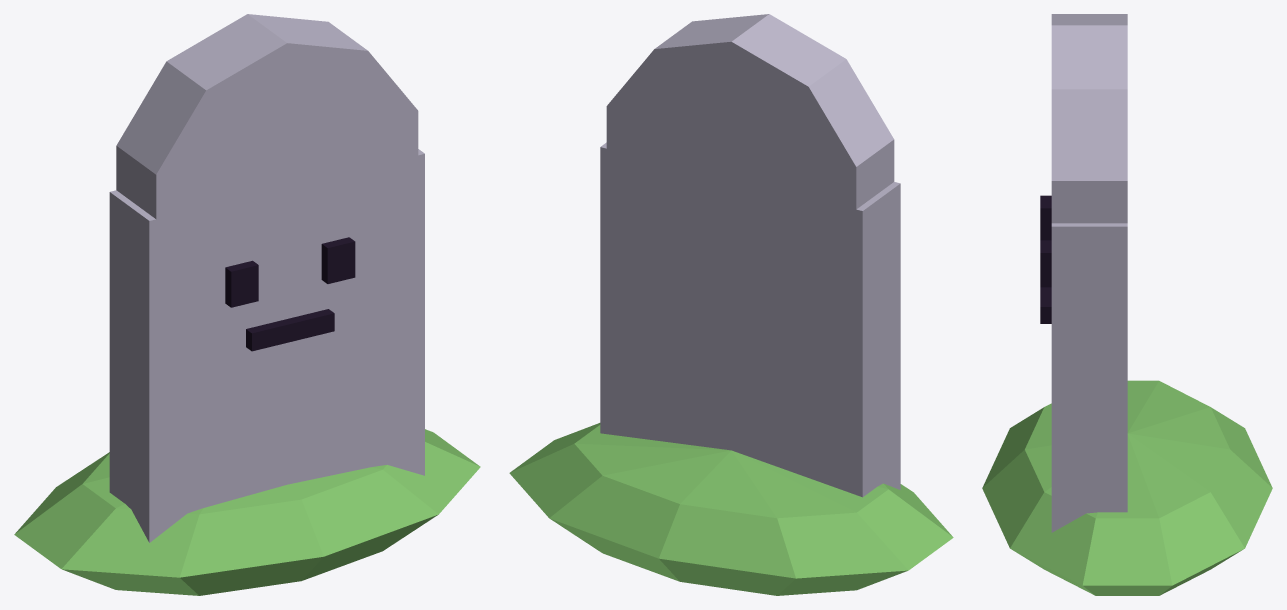
Rendered from hw3d_gravestone.glb.
3 views of the same model, side by side, from view 1: azimuth 30°, elevation 25°; view 2: azimuth 150°, elevation 25°; view 3: azimuth 270°, elevation 25° (orthographic). The views are drawn at different scales.
Visible parts, largest first — view 1: hw3d_gravestone; view 2: hw3d_gravestone; view 3: hw3d_gravestone.
Boxes of the visible parts, x1,y1,x2,y2 form: hw3d_gravestone: (14, 14, 480, 595); hw3d_gravestone: (509, 14, 953, 595); hw3d_gravestone: (982, 14, 1272, 595).
Size of what is drawn, in the model's own units: 0.6087 by 0.755 by 0.384.
